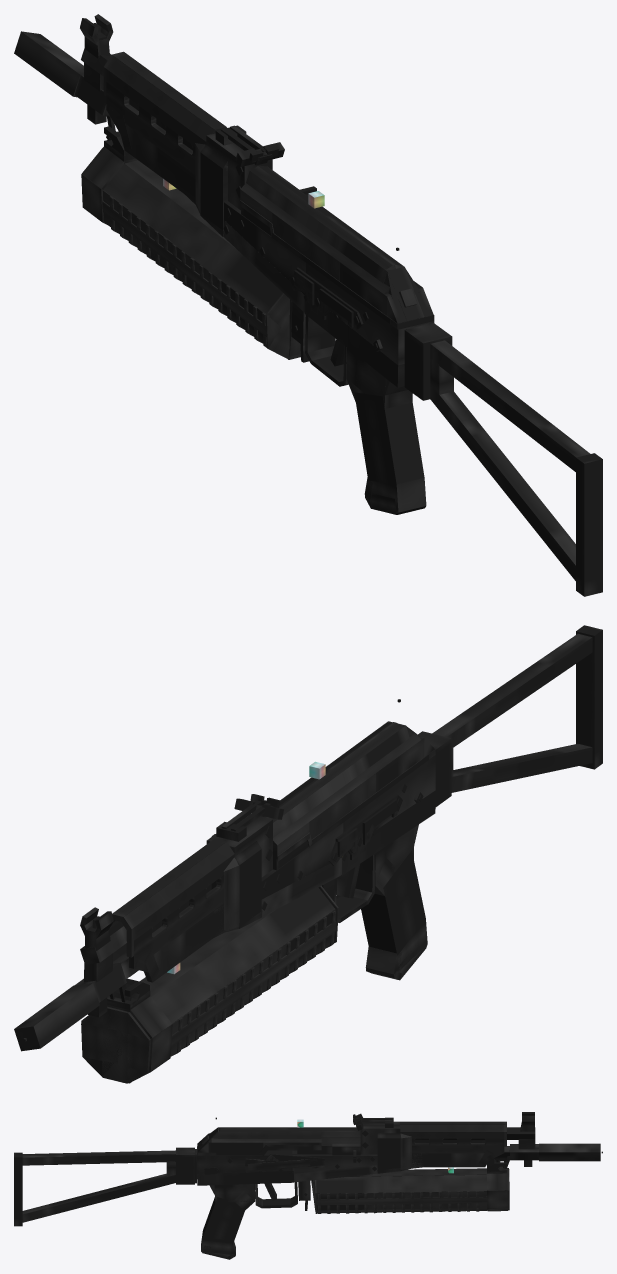
3 views of the same model, one above another, from view 1: azimuth 30°, elevation 25°; view 2: azimuth 150°, elevation 25°; view 3: azimuth 270°, elevation 25° (orthographic). The views are drawn at different scales.
Parts seen in each view (by area): view 1: magazineggggg, stock, handguard, pgriptrigger, dustcover, gun, muzbrake, lowerbody, sidemount, bone15, bone14; view 2: magazineggggg, handguard, stock, gun, dustcover, pgriptrigger, muzbrake, bone3, lowerbody, sidemount, bone14; view 3: handguard, bone3, stock, gun, pgriptrigger, dustcover, bone12, magazineggggg, lowerbody, muzbrake, switch, bolt (+3 smaller).
Boxes of the visible parts, x1=… form: magazineggggg: x1=81, y1=126, x2=300, y2=359; stock: x1=404, y1=323, x2=602, y2=596; handguard: x1=103, y1=51, x2=227, y2=236; pgriptrigger: x1=291, y1=302, x2=426, y2=514; dustcover: x1=240, y1=165, x2=434, y2=329; gun: x1=74, y1=14, x2=434, y2=365; muzbrake: x1=14, y1=31, x2=83, y2=97; lowerbody: x1=304, y1=294, x2=404, y2=387; sidemount: x1=289, y1=267, x2=363, y2=329; bone15: x1=384, y1=265, x2=433, y2=323; bone14: x1=224, y1=221, x2=304, y2=312; magazineggggg: x1=102, y1=886, x2=338, y2=1083; handguard: x1=110, y1=838, x2=262, y2=982; stock: x1=418, y1=625, x2=602, y2=806; gun: x1=75, y1=755, x2=435, y2=1017; dustcover: x1=260, y1=721, x2=435, y2=870; pgriptrigger: x1=322, y1=824, x2=427, y2=980; muzbrake: x1=14, y1=983, x2=99, y2=1051; bone3: x1=81, y1=977, x2=145, y2=1076; lowerbody: x1=341, y1=790, x2=435, y2=875; sidemount: x1=328, y1=794, x2=402, y2=865; bone14: x1=261, y1=857, x2=341, y2=916; handguard: x1=377, y1=1121, x2=506, y2=1173; bone3: x1=315, y1=1173, x2=509, y2=1213; stock: x1=14, y1=1147, x2=196, y2=1226; gun: x1=197, y1=1112, x2=538, y2=1175; pgriptrigger: x1=201, y1=1180, x2=310, y2=1259; dustcover: x1=197, y1=1127, x2=360, y2=1155; bone12: x1=316, y1=1191, x2=487, y2=1210; magazineggggg: x1=311, y1=1158, x2=509, y2=1213; lowerbody: x1=197, y1=1171, x2=293, y2=1185; muzbrake: x1=539, y1=1143, x2=600, y2=1161; switch: x1=245, y1=1154, x2=325, y2=1172; bolt: x1=297, y1=1137, x2=360, y2=1162.
Size of the model in its own units: 52.45 by 158 by 593.
Materials: 1 (1 with a texture image).
